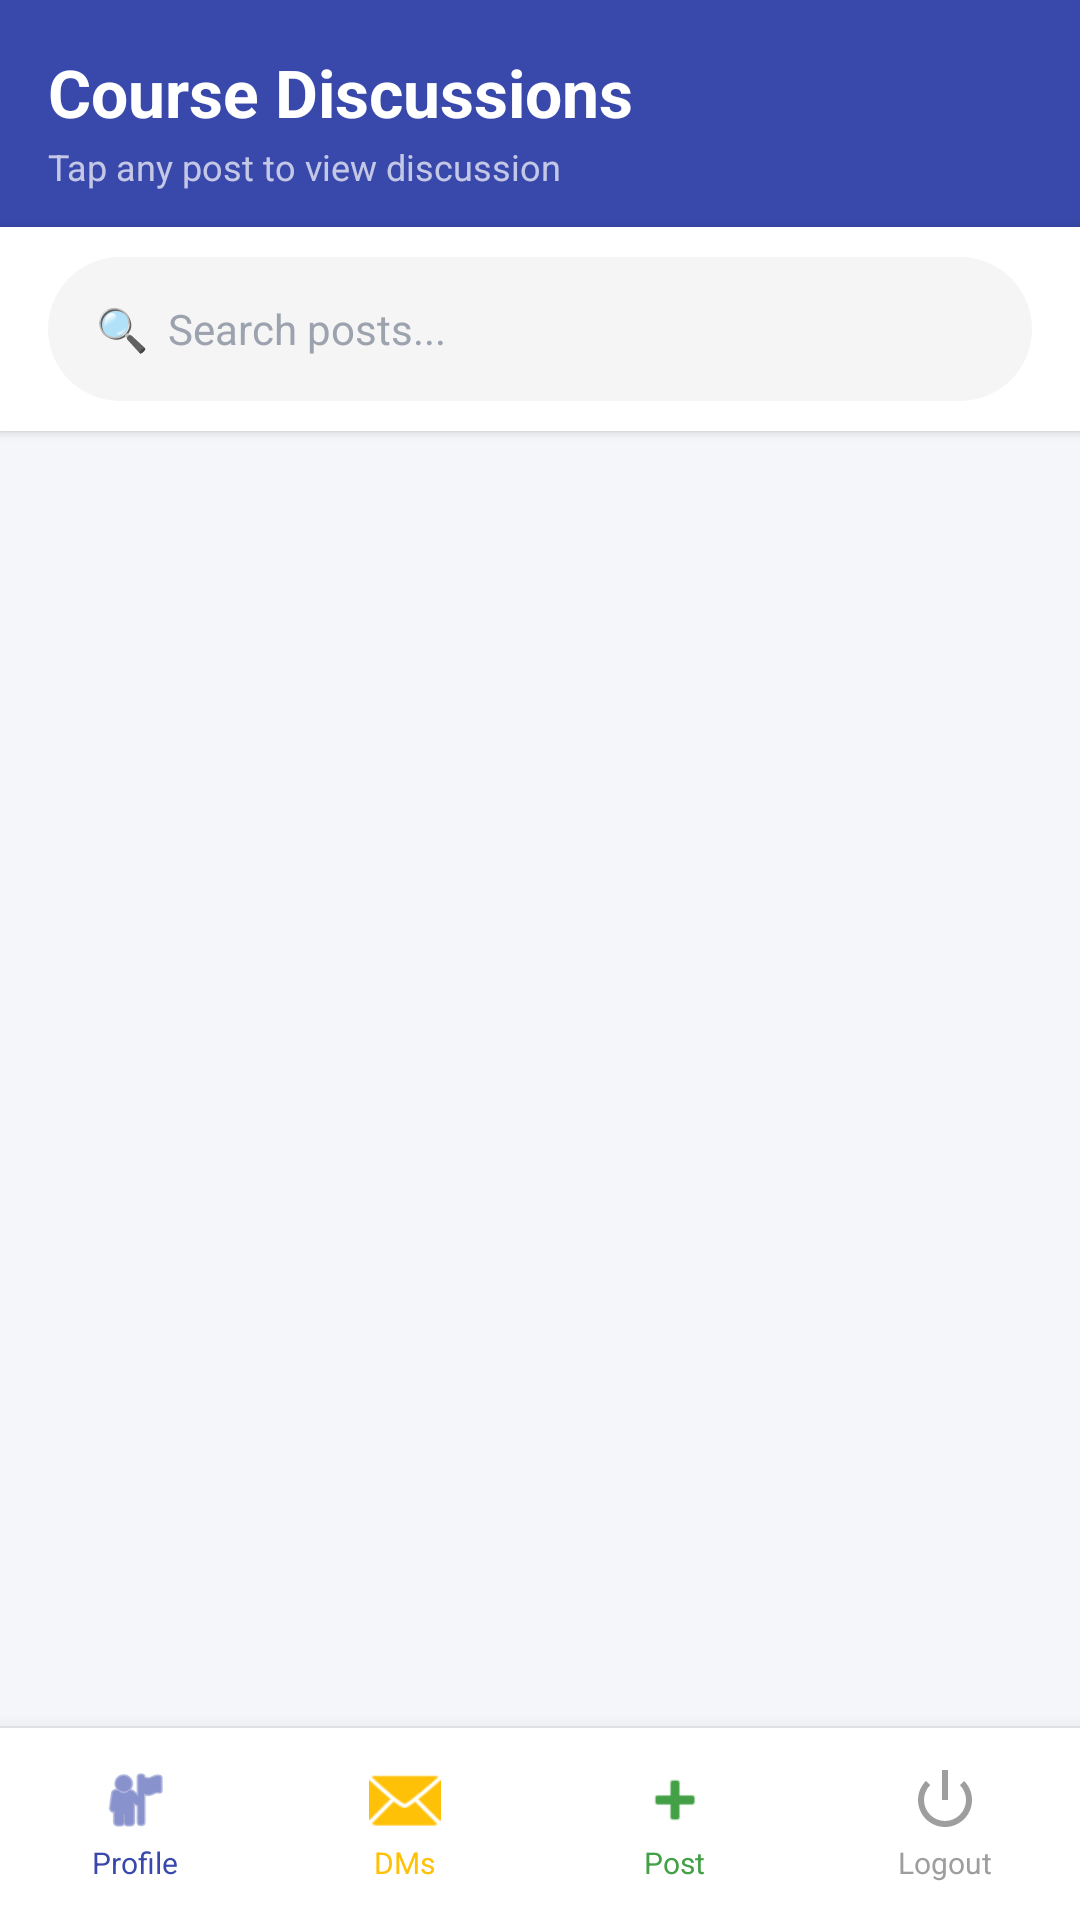

Where icons sit on this 1080×1920 app screen, as (x1, y1, x2, y2):
add: (655, 1780, 695, 1820)
email: (369, 1775, 441, 1826)
lock power off: (918, 1770, 972, 1827)
myplaces: (109, 1773, 163, 1827)
